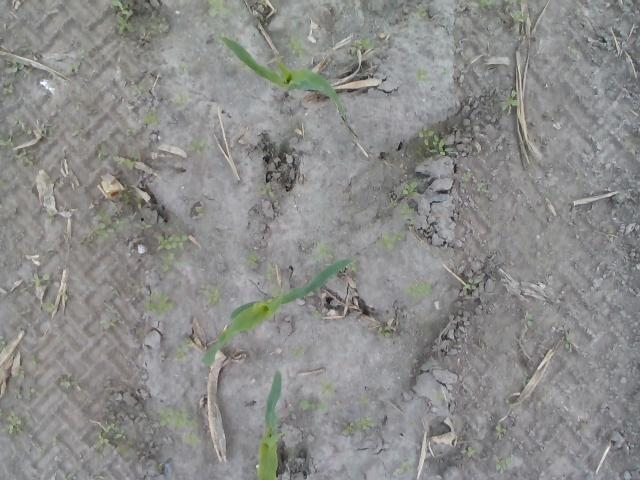Maize: (201, 254, 354, 366), (219, 34, 349, 120), (257, 366, 284, 480)
Weeds: (111, 0, 170, 37), (158, 403, 204, 448), (154, 230, 192, 274), (95, 421, 137, 458), (94, 208, 128, 242), (2, 60, 30, 96), (418, 126, 446, 157), (142, 290, 176, 314), (388, 197, 416, 226), (0, 406, 28, 434), (208, 0, 250, 18), (342, 416, 375, 438), (404, 280, 432, 303), (198, 282, 224, 306), (310, 240, 338, 262), (462, 171, 489, 193), (351, 36, 381, 55), (374, 232, 405, 250), (414, 64, 448, 80), (173, 336, 195, 360), (112, 153, 136, 174), (238, 248, 262, 269), (297, 399, 330, 413), (469, 0, 496, 17), (286, 35, 305, 59), (121, 191, 146, 209), (502, 90, 519, 115), (14, 148, 34, 169), (318, 378, 338, 398), (174, 94, 194, 113), (256, 176, 273, 198), (397, 456, 415, 476), (402, 178, 419, 199), (32, 271, 54, 287), (63, 374, 82, 392), (143, 110, 160, 130), (190, 138, 208, 156), (13, 386, 33, 402), (374, 324, 396, 338), (13, 118, 32, 134), (66, 62, 82, 81), (509, 10, 527, 26), (0, 133, 18, 149), (494, 456, 512, 472), (96, 142, 111, 160), (624, 136, 638, 155), (18, 303, 34, 319), (415, 0, 430, 17), (96, 318, 119, 329), (40, 296, 54, 312), (494, 424, 508, 440), (561, 334, 574, 351), (464, 277, 481, 290), (128, 84, 144, 97), (264, 262, 274, 282), (192, 206, 206, 220), (291, 346, 305, 360), (463, 446, 479, 458), (133, 222, 152, 232), (15, 46, 32, 56), (526, 312, 536, 329), (566, 44, 578, 58), (126, 126, 138, 138), (62, 471, 78, 480), (359, 392, 369, 406), (47, 436, 64, 444), (574, 0, 582, 16), (346, 264, 360, 273), (104, 302, 115, 313), (16, 368, 27, 379), (310, 310, 322, 320), (178, 63, 189, 73), (40, 126, 50, 137), (504, 0, 513, 12), (72, 127, 80, 137), (448, 282, 458, 290), (0, 335, 6, 347), (522, 375, 529, 385), (94, 192, 101, 200)
